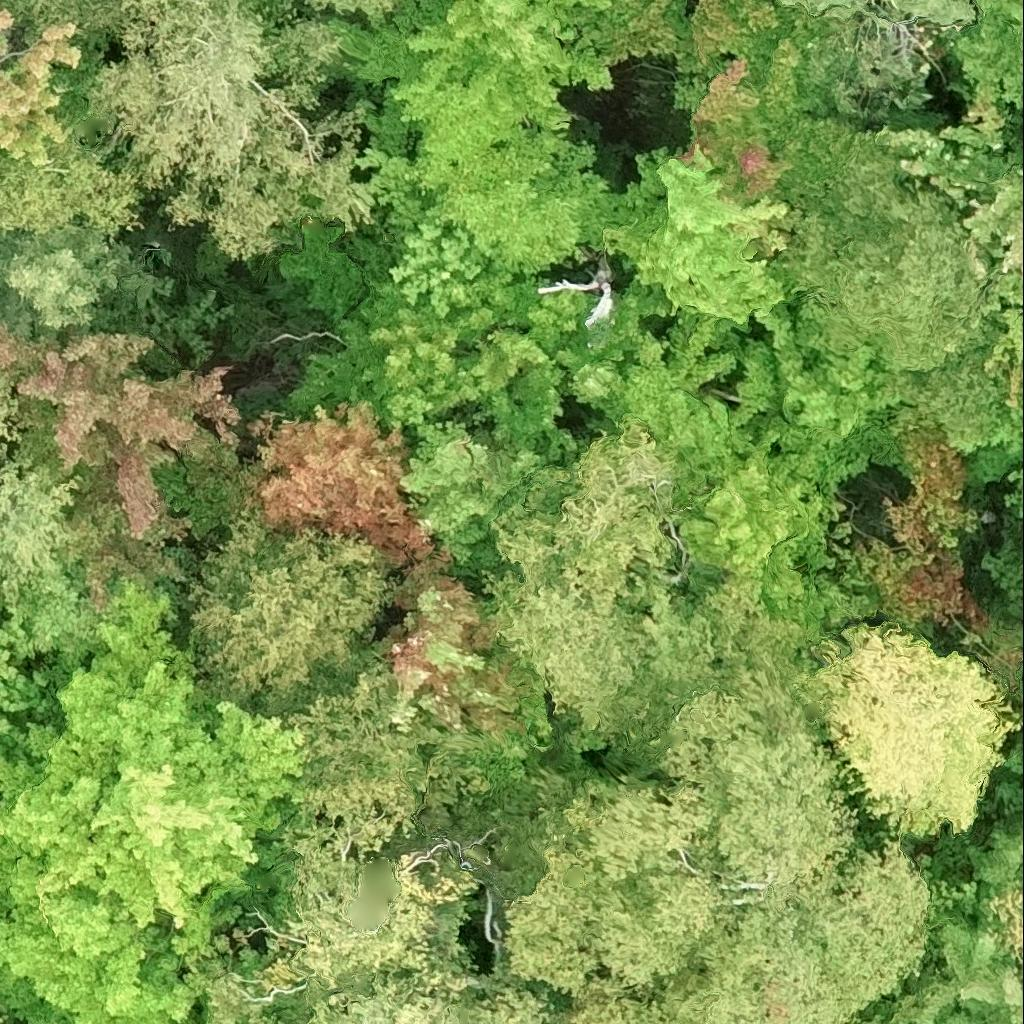crown: (500, 584, 929, 1023), (0, 581, 304, 1023), (207, 652, 492, 1023), (82, 0, 376, 261), (281, 224, 594, 467), (641, 389, 889, 682), (793, 136, 1011, 459), (479, 418, 689, 742), (810, 622, 1020, 835), (878, 120, 1023, 411), (693, 13, 903, 208), (600, 146, 809, 331), (190, 514, 393, 702), (731, 288, 909, 483), (0, 325, 239, 469), (326, 22, 531, 187), (382, 0, 613, 144), (240, 400, 433, 571), (870, 819, 1023, 1023), (555, 271, 746, 427), (429, 132, 627, 282), (347, 148, 511, 323), (854, 428, 986, 629), (383, 541, 520, 734), (397, 423, 567, 573), (775, 0, 976, 118), (76, 422, 247, 546), (55, 462, 181, 609), (674, 0, 809, 126), (0, 133, 143, 233), (0, 9, 86, 168), (941, 0, 1023, 163), (556, 0, 700, 80), (0, 461, 72, 607), (982, 398, 1023, 628), (177, 933, 277, 1023), (307, 973, 484, 1023), (0, 0, 123, 57), (0, 619, 39, 756), (467, 966, 560, 1023), (533, 263, 614, 324), (308, 0, 400, 21), (0, 373, 19, 438), (998, 781, 1023, 812), (1007, 742, 1023, 770), (1014, 666, 1023, 705), (247, 1015, 288, 1023), (0, 994, 10, 1023), (238, 1021, 251, 1023)
